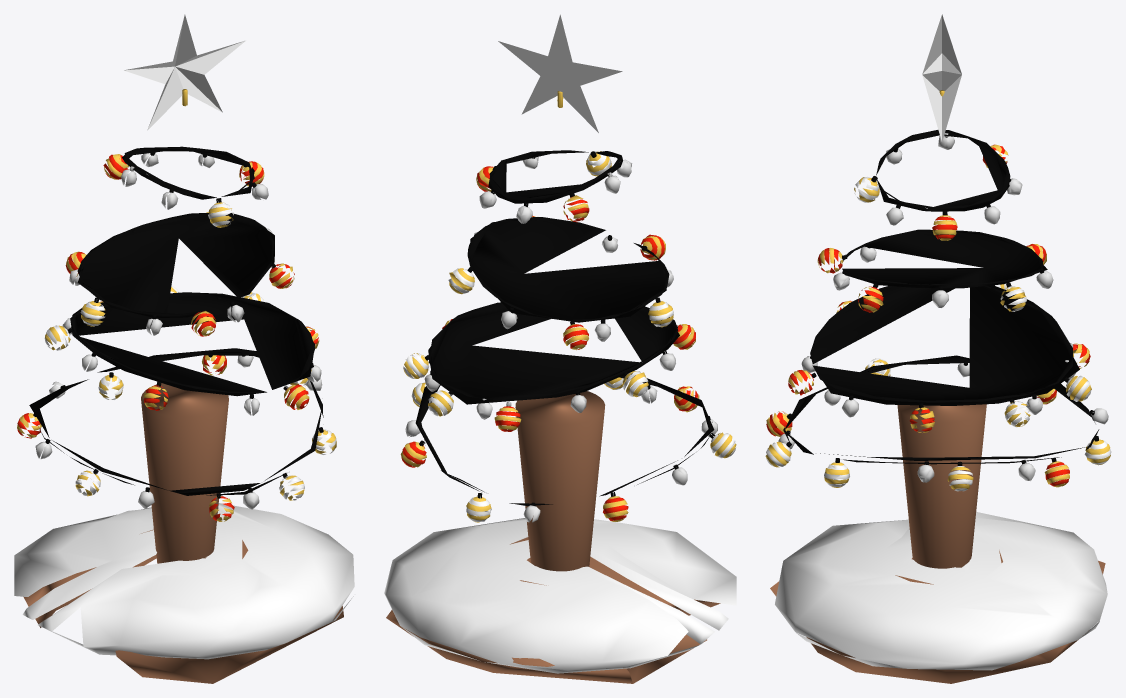
The model's file is christmas-tree.glb.
3 views of the same model, side by side, from view 1: azimuth 30°, elevation 25°; view 2: azimuth 150°, elevation 25°; view 3: azimuth 270°, elevation 25° (orthographic).
Visible parts, largest first — view 1: Sphere.001, BézierCircle.001, Cylinder, BézierCircle.002, Sphere, Circle.004, BézierCircle.003, BézierCircle; view 2: Sphere.001, BézierCircle.001, BézierCircle.002, Cylinder, Sphere, Circle.004, BézierCircle, BézierCircle.003; view 3: Sphere.001, BézierCircle.002, Cylinder, BézierCircle.001, Sphere, Circle.004, BézierCircle, BézierCircle.003.
Boxes of the visible parts, left/top/right/bottom form: Sphere.001: left=14, top=503, right=354, bottom=659; BézierCircle.001: left=77, top=213, right=274, bottom=318; Cylinder: left=141, top=383, right=228, bottom=563; BézierCircle.002: left=70, top=292, right=315, bottom=396; Sphere: left=23, top=529, right=343, bottom=683; Circle.004: left=124, top=14, right=245, bottom=130; BézierCircle.003: left=29, top=348, right=323, bottom=495; BézierCircle: left=122, top=146, right=254, bottom=199; Sphere.001: left=384, top=518, right=736, bottom=673; BézierCircle.001: left=467, top=217, right=669, bottom=322; BézierCircle.002: left=428, top=302, right=679, bottom=404; Cylinder: left=515, top=391, right=605, bottom=571; Sphere: left=386, top=537, right=720, bottom=683; Circle.004: left=498, top=14, right=622, bottom=132; BézierCircle: left=488, top=150, right=622, bottom=203; BézierCircle.003: left=415, top=373, right=714, bottom=505; Sphere.001: left=775, top=512, right=1107, bottom=670; BézierCircle.002: left=810, top=285, right=1079, bottom=405; Cylinder: left=897, top=404, right=986, bottom=568; BézierCircle.001: left=842, top=229, right=1047, bottom=288; Sphere: left=770, top=550, right=1105, bottom=683; Circle.004: left=922, top=14, right=961, bottom=141; BézierCircle: left=876, top=130, right=1010, bottom=211; BézierCircle.003: left=783, top=355, right=1099, bottom=464.
Size of the model in its own units: 5.54 by 10.57 by 5.35.
